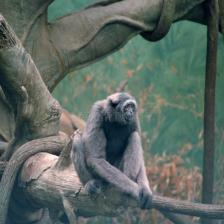monkey: (74, 87, 154, 208)
